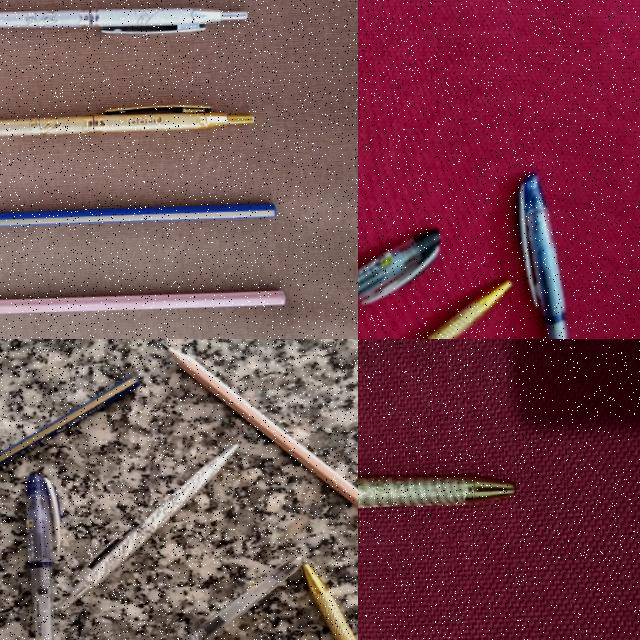pen: (99, 555, 309, 640), (517, 169, 592, 339), (24, 469, 70, 640), (358, 230, 440, 302)
pencil: (169, 339, 358, 556), (0, 283, 291, 326), (0, 378, 139, 468), (0, 196, 274, 235)
signature pen: (59, 445, 237, 609), (0, 0, 248, 45), (0, 102, 253, 142), (428, 281, 511, 339), (358, 476, 513, 507)
